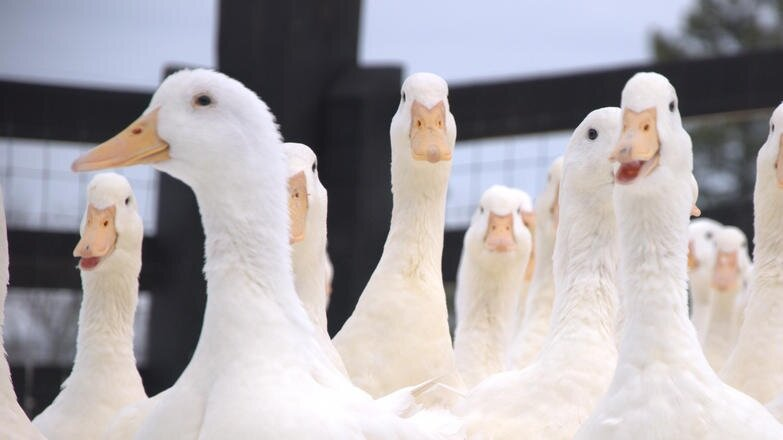Mencari Makan di Lumpur: (57, 104, 174, 185), (610, 103, 666, 189), (400, 98, 459, 175), (61, 208, 122, 277), (483, 212, 517, 254)
